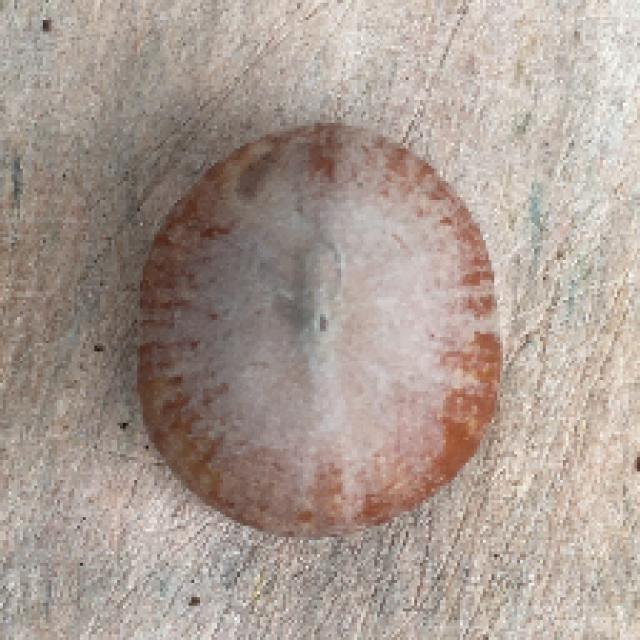qualityHazelnut: (134, 115, 500, 541)
